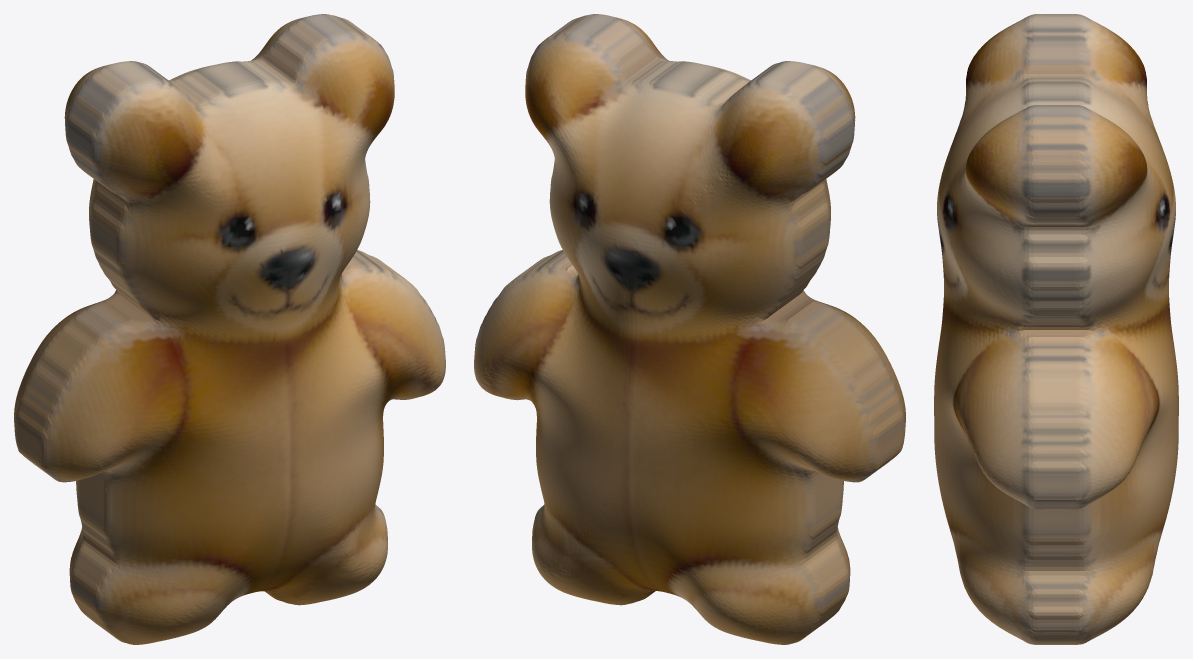
3 renders of one model, left to right at view 1: azimuth 30°, elevation 25°; view 2: azimuth 150°, elevation 25°; view 3: azimuth 270°, elevation 25°, orthographic. The views are drawn at different scales.
Visible parts, largest first — view 1: geometry_0; view 2: geometry_0; view 3: geometry_0.
Boxes of the visible parts, x1,y1,x2,y2 form: geometry_0: [14, 14, 445, 644]; geometry_0: [474, 14, 905, 644]; geometry_0: [934, 14, 1178, 644].
Bounding box in the file's own units: 0.7501 × 1 × 0.418.
